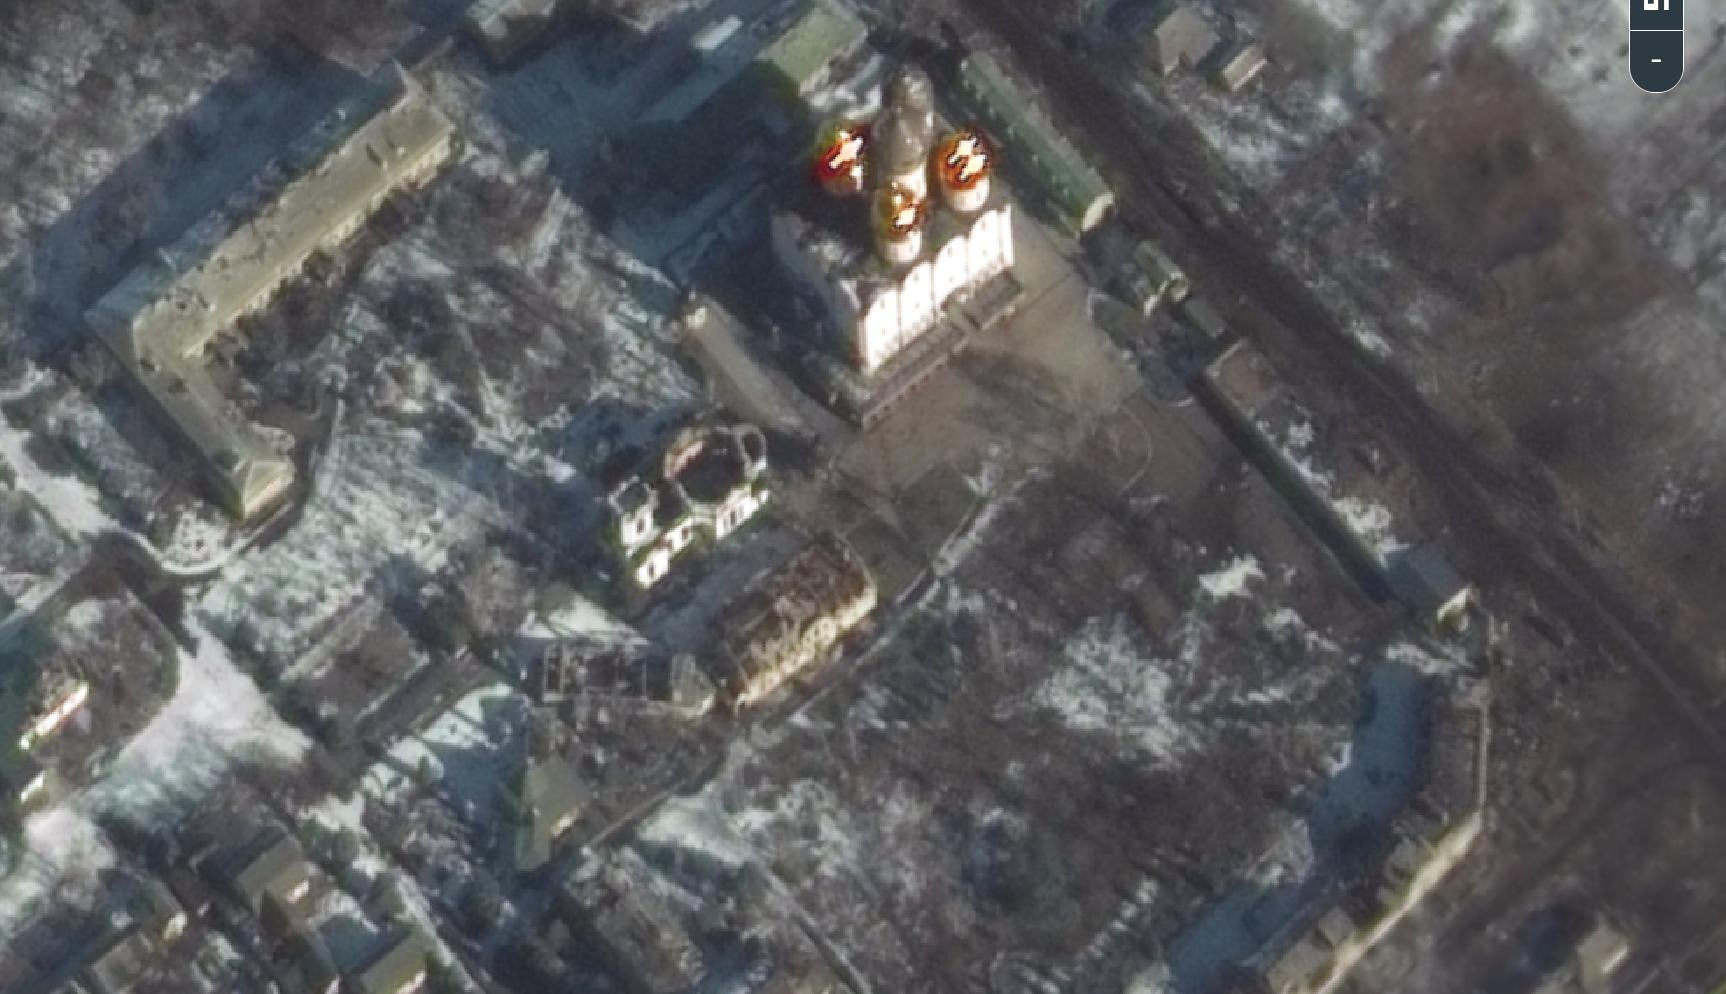demaged-building-high: (589, 413, 779, 592)
